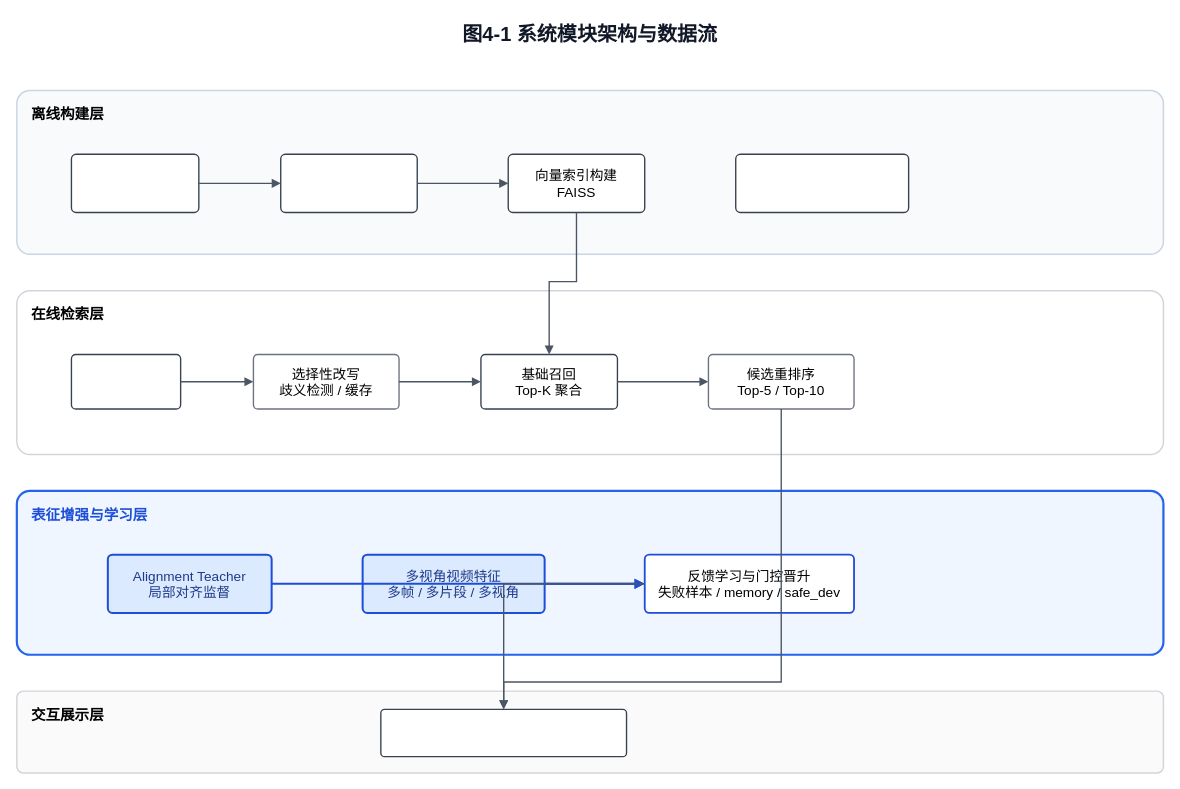
This 1180x789 diagram has some shape labels left out. Here are the shapes that lost their labels. From the top down, the box of each, then its label:
(70, 153, 199, 213): 数据预处理 清单构建
(280, 153, 418, 213): 视频特征提取 片段级编码
(735, 153, 909, 213): 实验结果管理 summary / 日志 / 图表
(70, 353, 181, 409): 查询输入
(380, 708, 627, 757): 前端页面 检索 / 历史 / 学习日志 / 消融图
